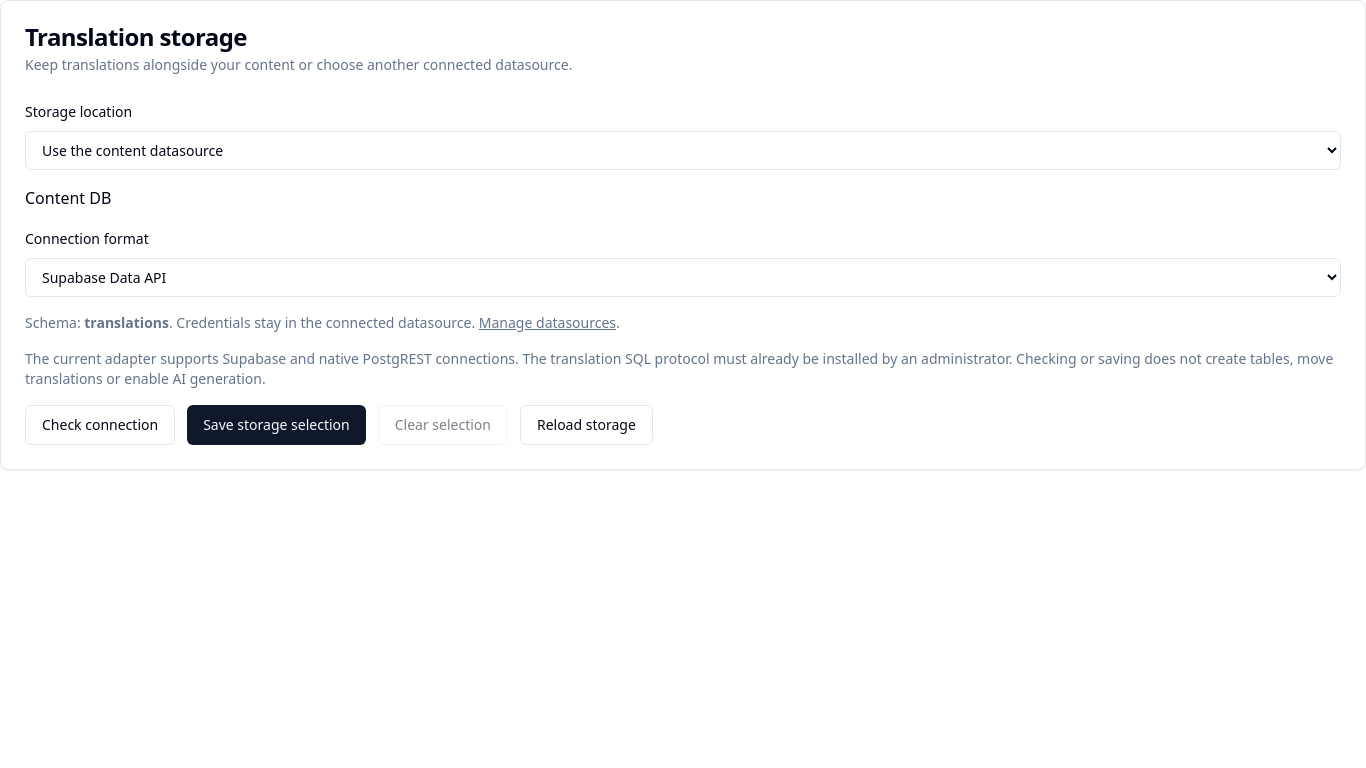
Test: Translation storage settings › checks a separate native PostgREST binding with IDs only and labels check limits
Check: the text "Content DB" is shown, box [25,187,111,209]
Select "Choose a datasource" in the dropdown labelled "Storage location" at (683, 150), box [25,131,1341,170]
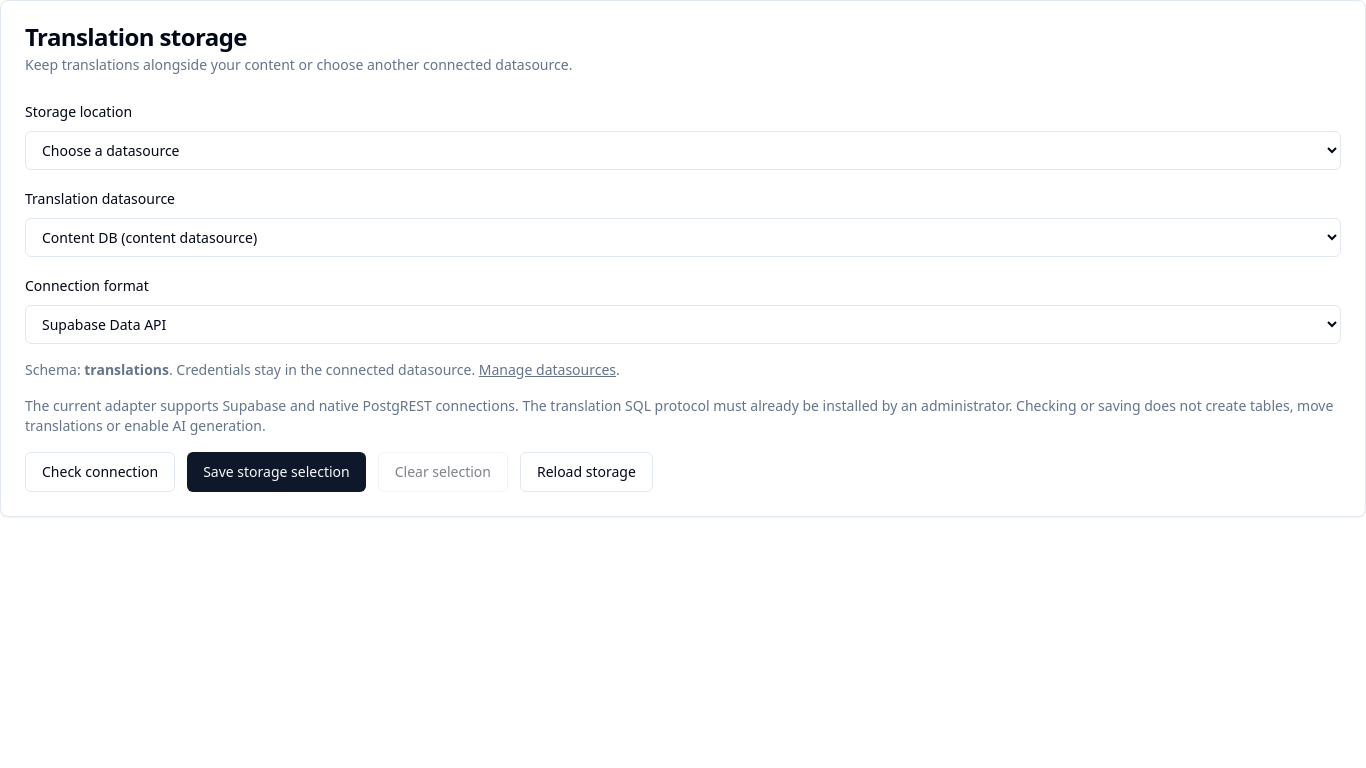
Select "Studygram selfhost" in the dropdown labelled "Translation datasource" at (683, 238), box [25,218,1341,257]
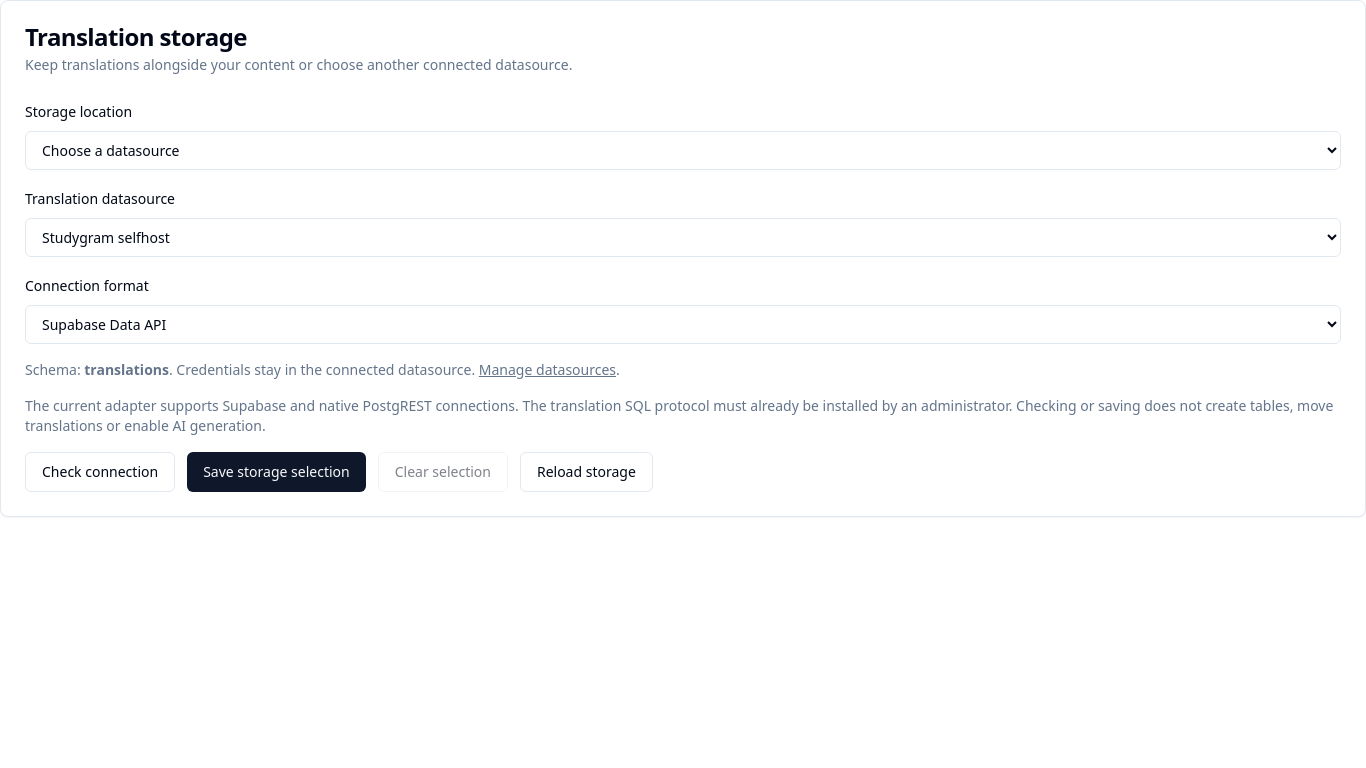
Select "Native PostgREST" in the dropdown labelled "Connection format" at (683, 324), box [25,305,1341,344]
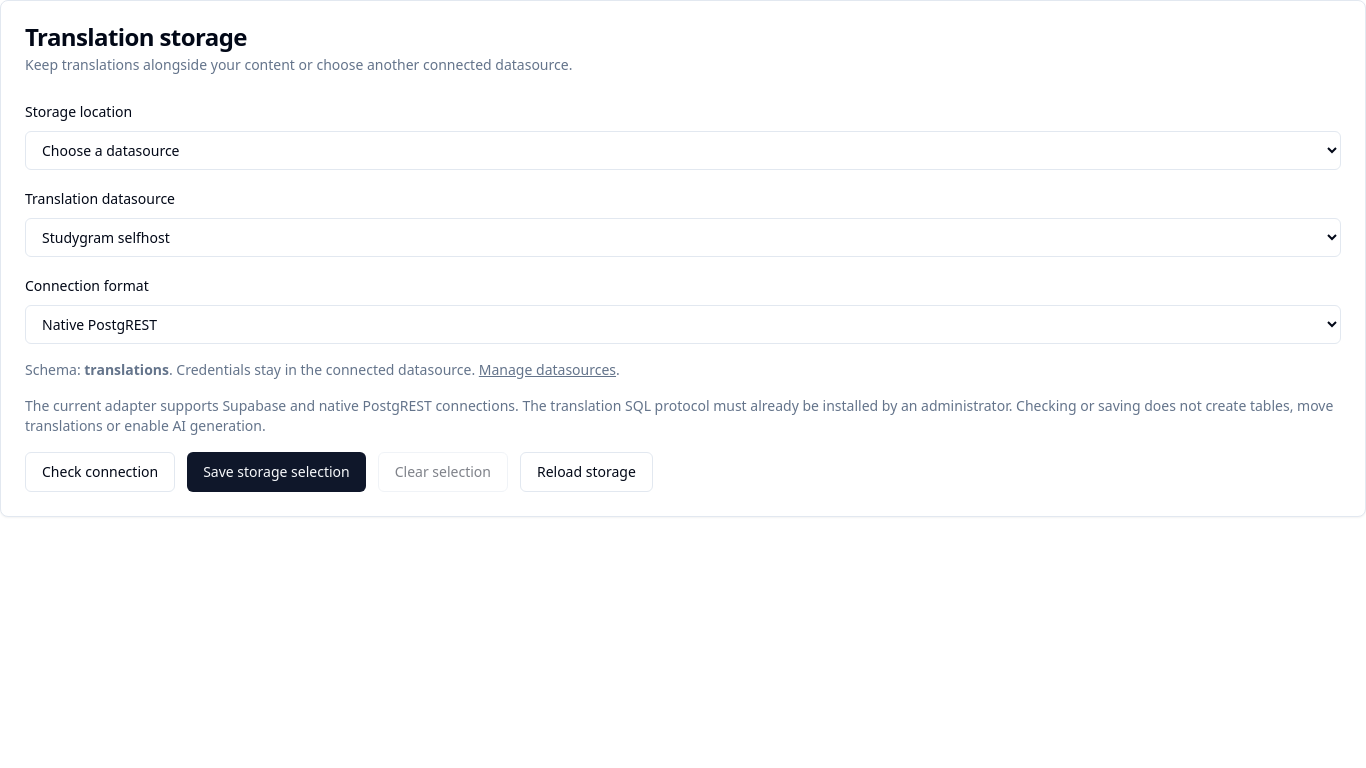
Click the button "Check connection" at (100, 472), box [25,452,175,492]
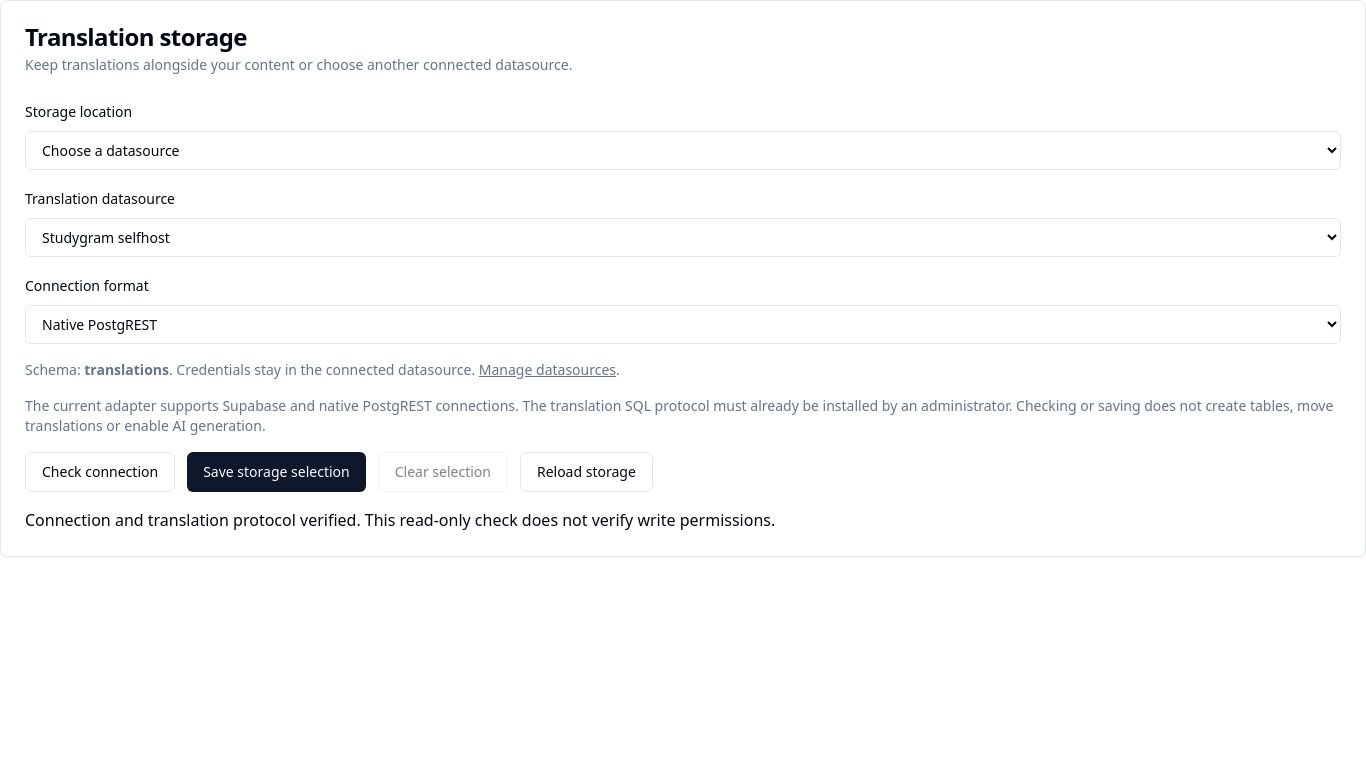
Check: the text "does not verify write permissions" is shown, box [25,509,775,531]
